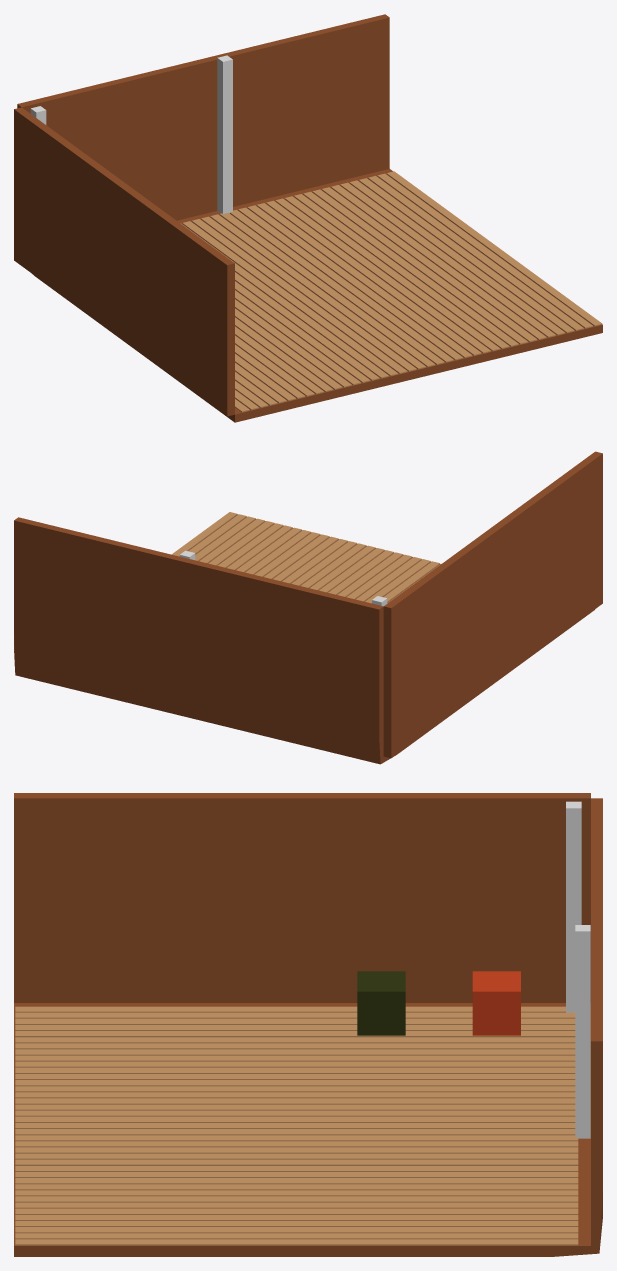
Rendered from Xmas_Fac.fbx.
3 renders of one model, top to bottom at view 1: azimuth 30°, elevation 25°; view 2: azimuth 150°, elevation 25°; view 3: azimuth 270°, elevation 25°, orthographic. The views are drawn at different scales.
Visible parts, largest first — view 1: Cube.005, Cube, Cube.008, Cube.004; view 2: Cube, Cube.008, Cube.005; view 3: Cube.005, Cube.008, Cube, Cube.004, Cube.006, Cube.007, Cube.003.
Part boxes in pixels (x1=…): Cube.005: x1=180, y1=171, x2=602, y2=412; Cube: x1=17, y1=14, x2=602, y2=422; Cube.008: x1=14, y1=107, x2=234, y2=416; Cube.004: x1=217, y1=55, x2=232, y2=213; Cube: x1=14, y1=514, x2=594, y2=764; Cube.008: x1=383, y1=451, x2=602, y2=758; Cube.005: x1=171, y1=512, x2=441, y2=603; Cube.005: x1=15, y1=1006, x2=578, y2=1245; Cube.008: x1=14, y1=793, x2=590, y2=1002; Cube: x1=14, y1=798, x2=602, y2=1256; Cube.004: x1=575, y1=925, x2=590, y2=1138; Cube.006: x1=472, y1=971, x2=520, y2=1035; Cube.007: x1=357, y1=971, x2=405, y2=1035; Cube.003: x1=566, y1=801, x2=581, y2=1012.
Size of the model in its own units: 2430 by 996 by 2438.
